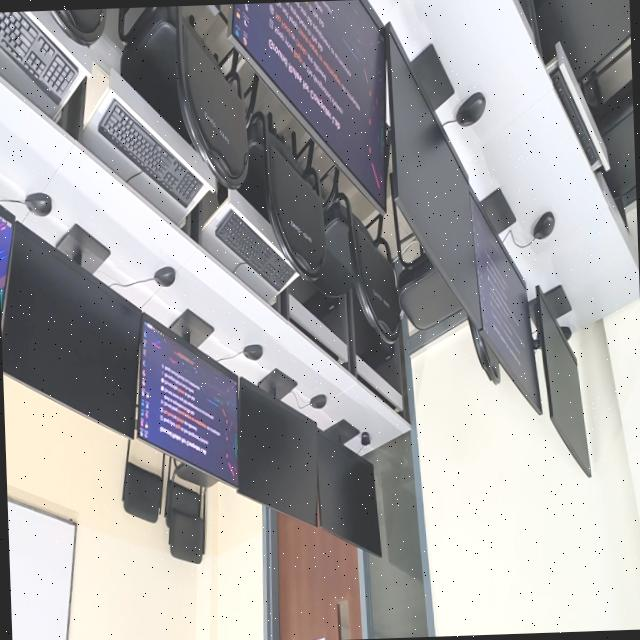Chair: (117, 5, 247, 187), (246, 92, 324, 278), (322, 167, 400, 342), (392, 200, 462, 329), (532, 0, 630, 81), (589, 78, 635, 198), (163, 459, 214, 562), (121, 457, 161, 521), (45, 7, 104, 46), (465, 316, 498, 383), (23, 192, 50, 215)
Keyboard: (97, 98, 201, 203), (0, 10, 76, 104), (213, 209, 293, 285), (548, 67, 598, 164)
Monitor: (226, 0, 385, 209), (0, 221, 140, 437), (383, 23, 480, 328), (135, 314, 237, 485), (468, 193, 538, 404), (237, 369, 315, 524), (529, 284, 589, 476), (315, 430, 380, 556)
Mouse: (454, 91, 484, 125), (23, 192, 50, 215), (531, 211, 553, 239), (152, 265, 174, 285), (242, 344, 261, 359), (309, 393, 325, 407), (360, 431, 368, 445)
